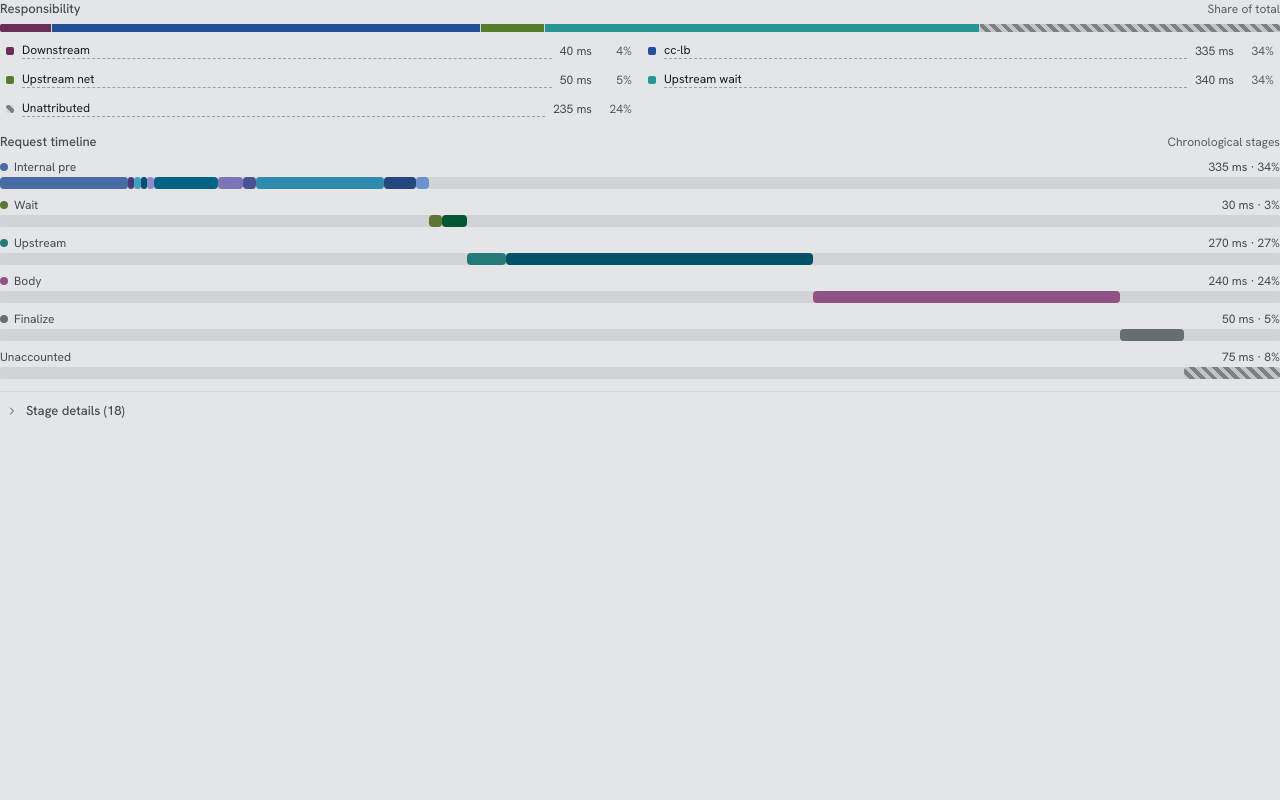
LatencyTimeline › shows the same responsibility totals as the compact popover
Expected: the element named "Latency by responsibility" is shown, [0, 0, 1279, 121]
Expected: the button with aria-label "Downstream, 40 ms, 4% of total" is shown, [0, 38, 638, 63]
Click the button with aria-label "Upstream wait, 340 ms, 34% of total": (961, 80) [642, 67, 1279, 92]
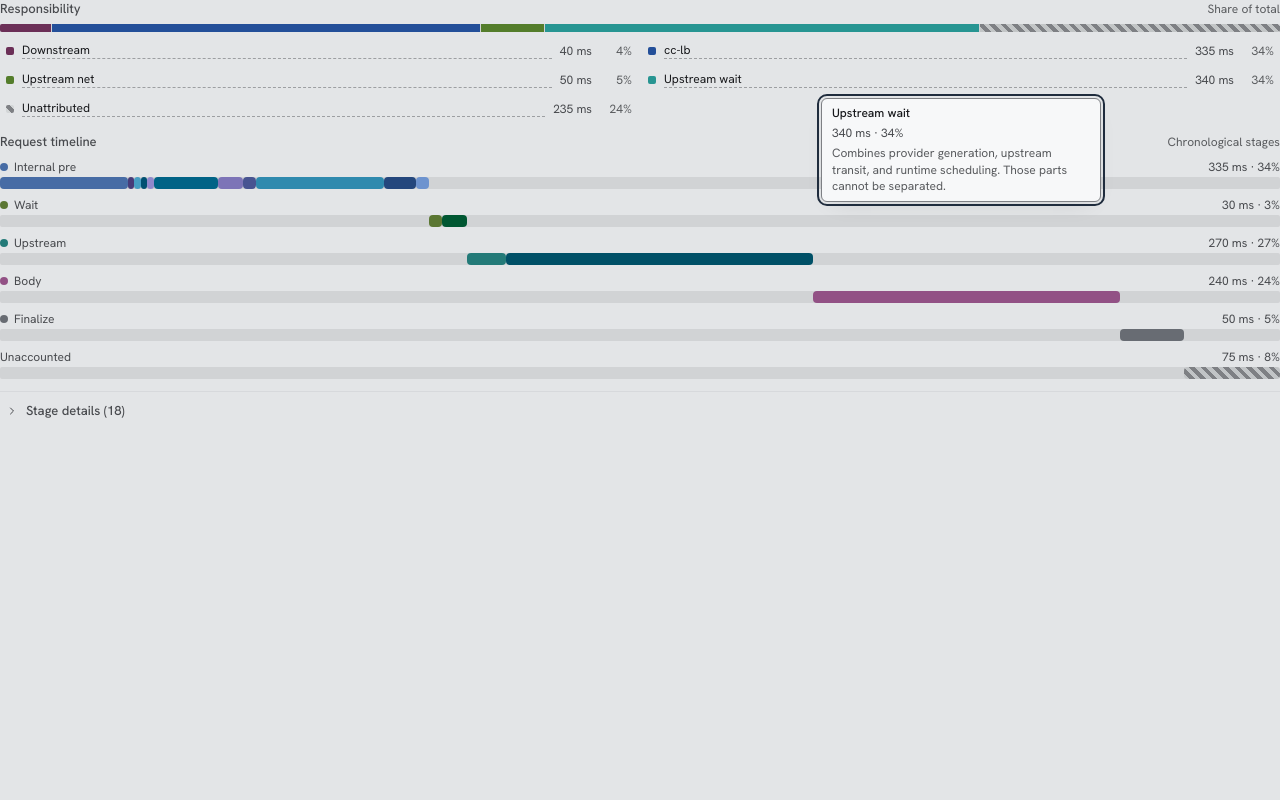
Expected: the text "provider generation, upstream transit, and runtime scheduling" is shown, [832, 145, 1067, 194]
